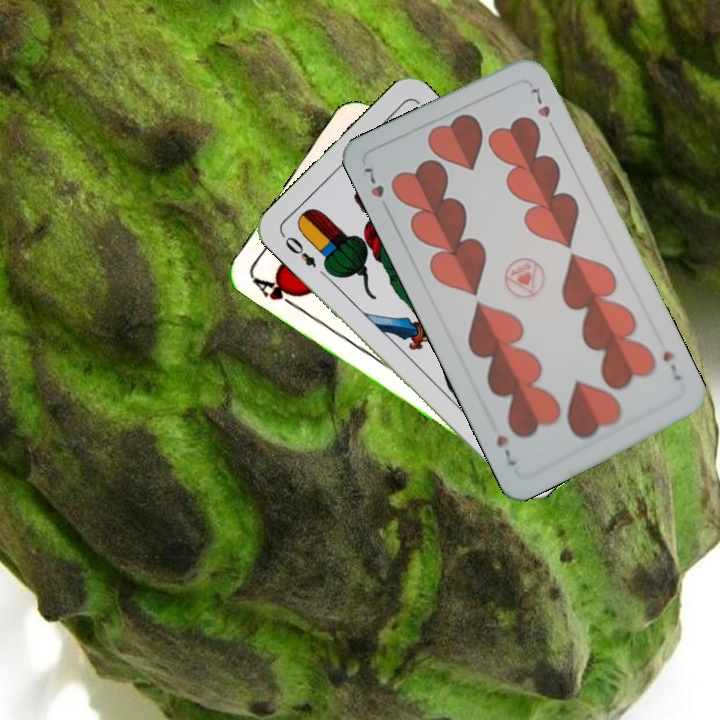EO: (277, 230, 319, 270)
H7: (359, 163, 393, 216), (658, 347, 684, 384)
HA: (248, 273, 303, 313)
